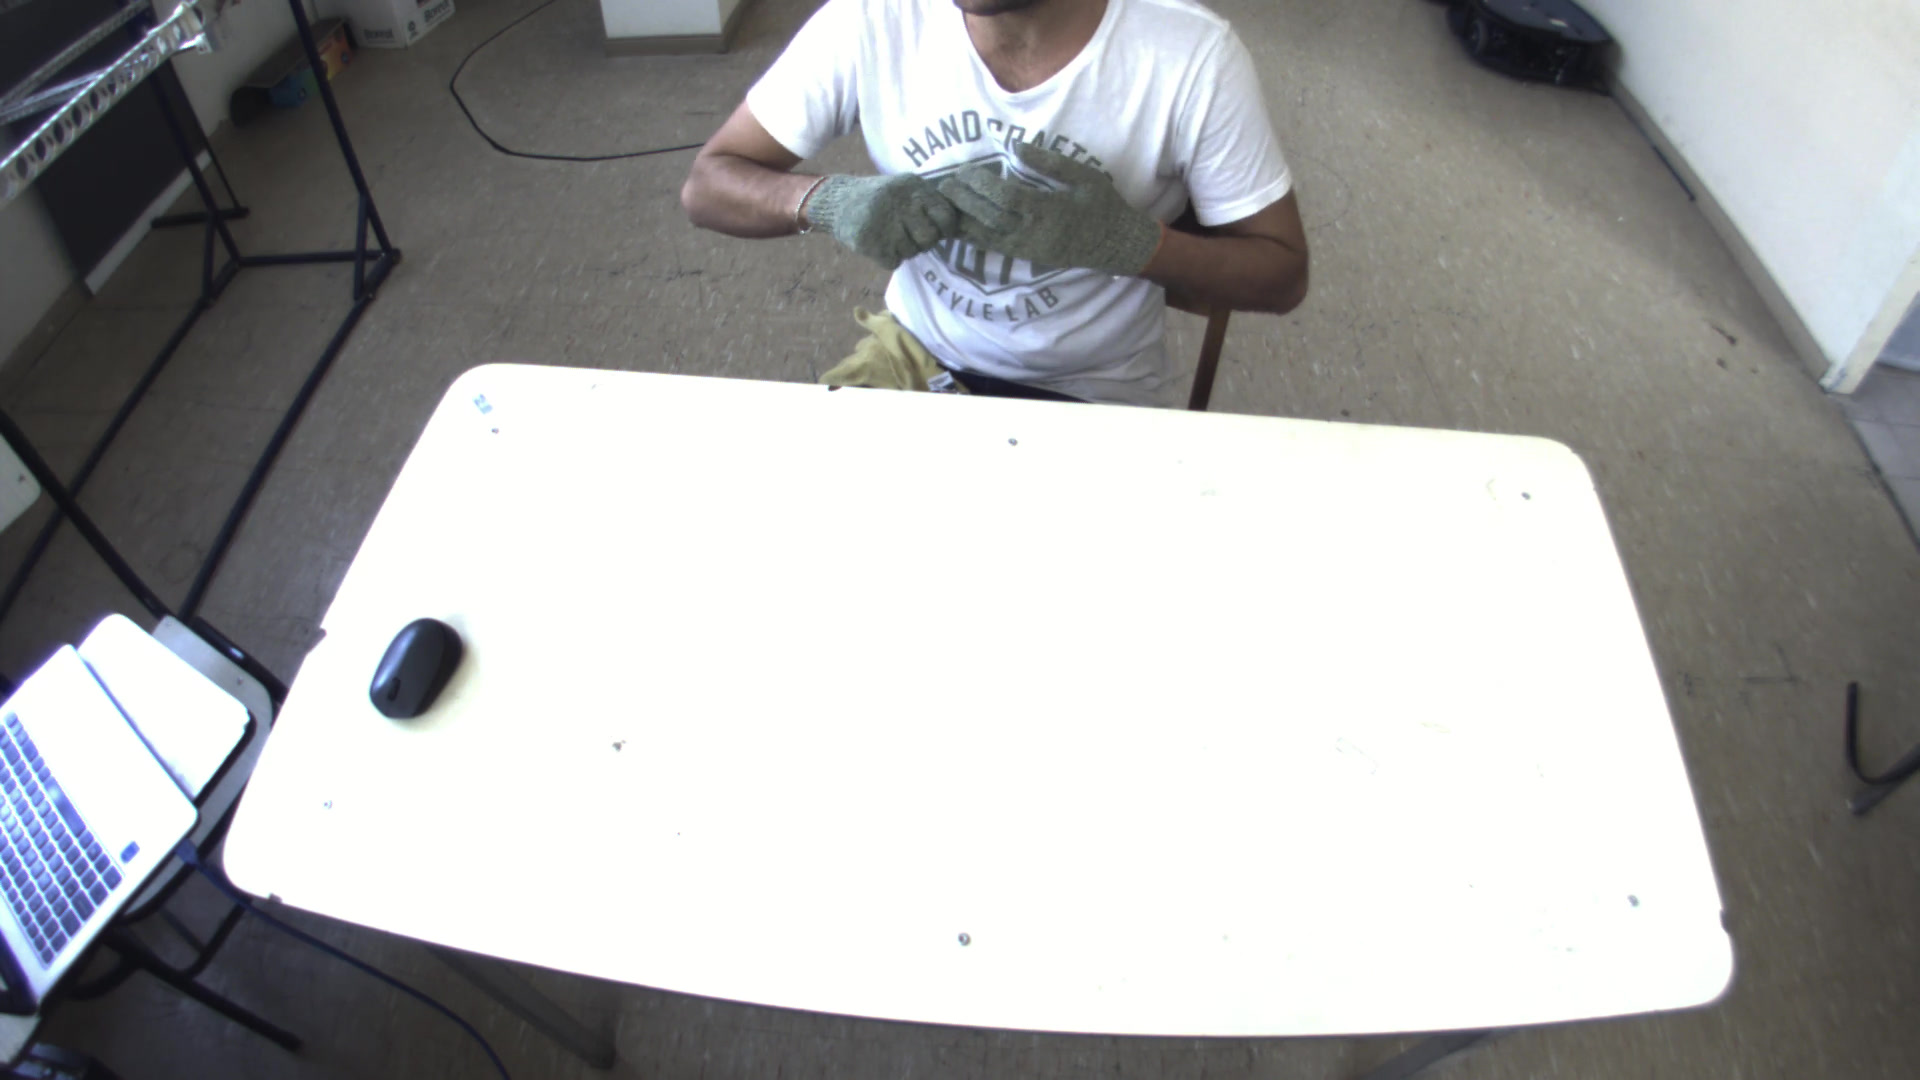hand: (935, 131, 1162, 272), (833, 157, 949, 273)
